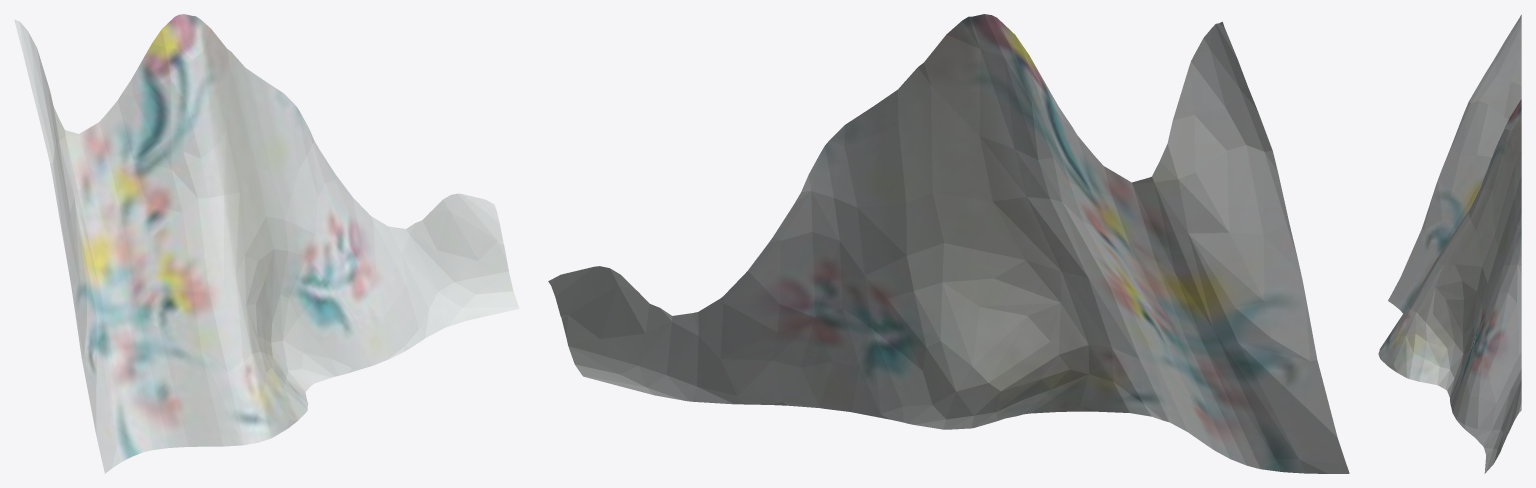
The picture shows the model from 3 angles, left to right: view 1: azimuth 30°, elevation 25°; view 2: azimuth 150°, elevation 25°; view 3: azimuth 270°, elevation 25°; orthographic projection. The views are drawn at different scales.
Visible parts, largest first — view 1: 091_W_Aya_100K_01; view 2: 091_W_Aya_100K_01; view 3: 091_W_Aya_100K_01.
Boxes of the visible parts, <box> form: 091_W_Aya_100K_01: <box>14,14,519,473</box>; 091_W_Aya_100K_01: <box>548,14,1349,473</box>; 091_W_Aya_100K_01: <box>1378,14,1521,473</box>.
Size of the model in its own units: 85.74 by 66.24 by 29.99.
1 material, 1 textured.
